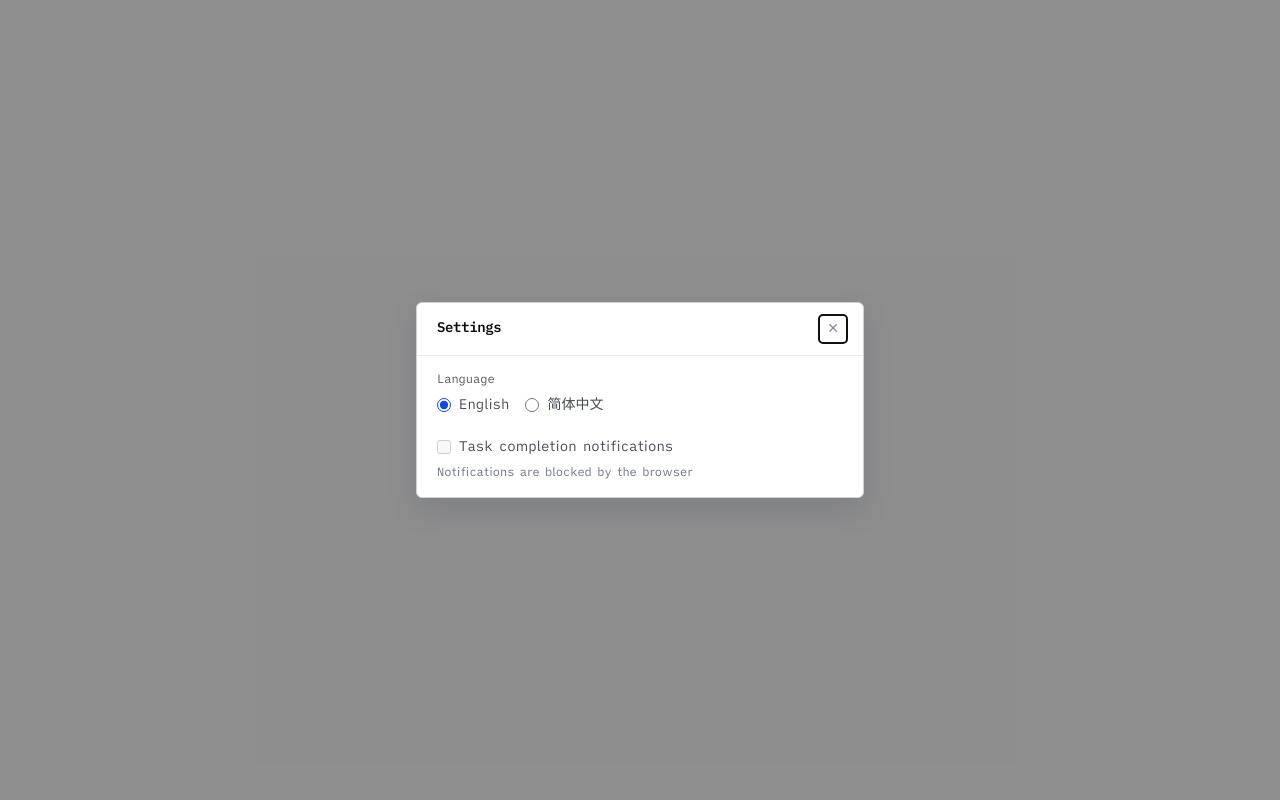
it: SystemSettingsModal › switches to 简体中文 by patching config, then flips the modal title to 系统设置
Click the radio button labelled "简体中文".
click(532, 405)  # box top-left (525, 398), bottom-right (539, 412)
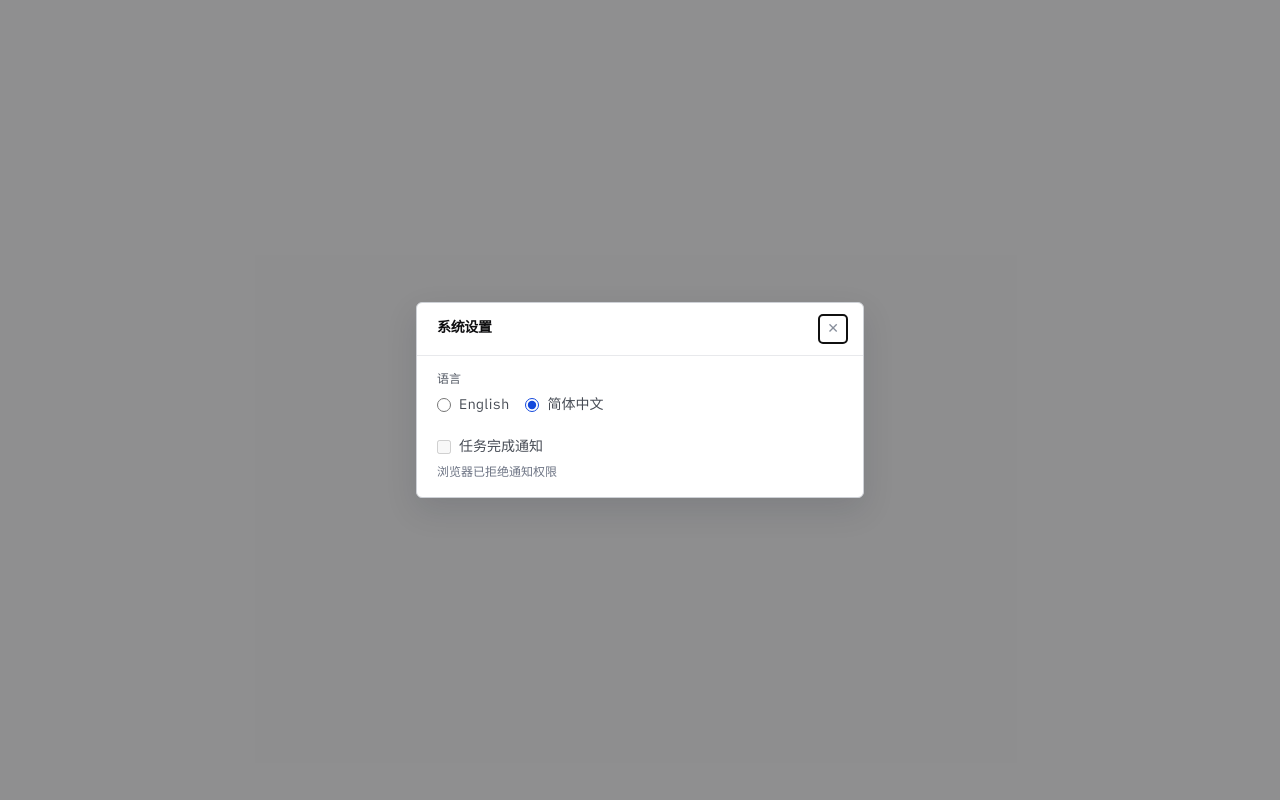
Expected: the dialog "系统设置" is shown, top-left (416, 302), bottom-right (864, 498)
